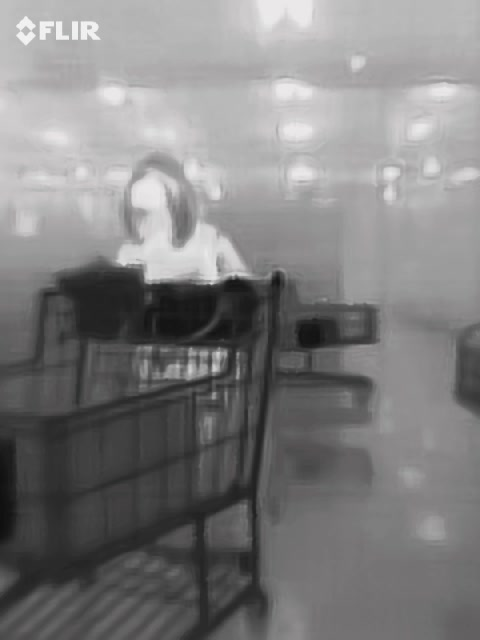head: (128, 163, 194, 248)
